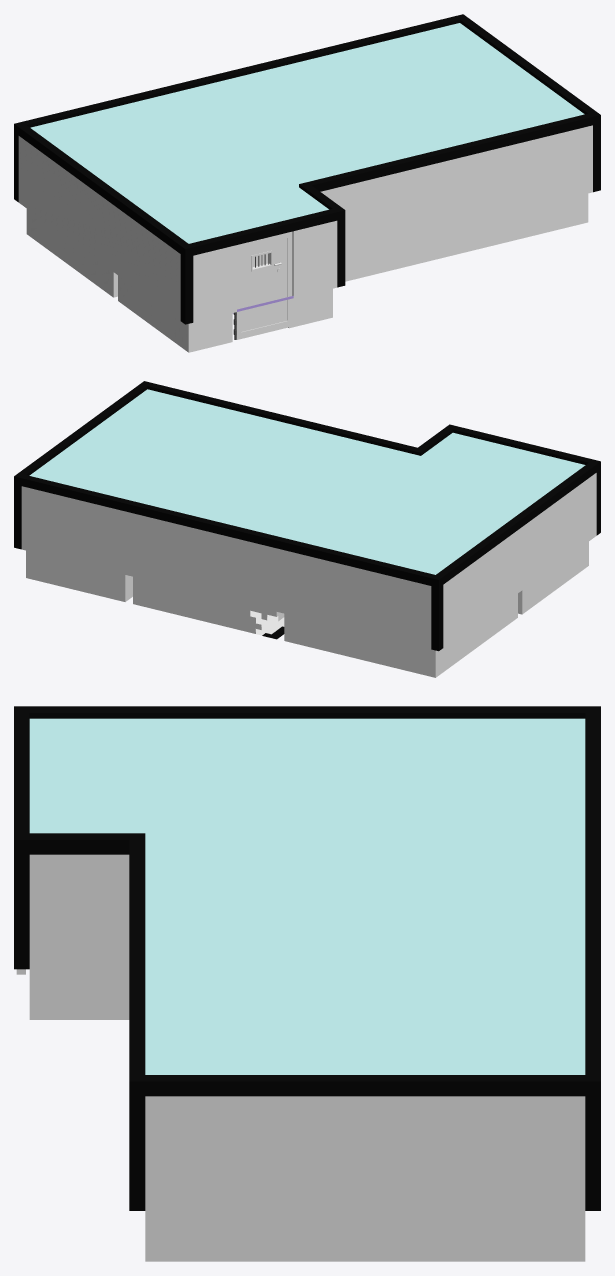
Rendered from Small_Building_1.fbx.
3 views of the same model, one above another, from view 1: azimuth 30°, elevation 25°; view 2: azimuth 150°, elevation 25°; view 3: azimuth 270°, elevation 25° (orthographic). The views are drawn at different scales.
Visible parts, largest first — view 1: Cube, Plane.303; view 2: Cube; view 3: Cube.
Boxes of the visible parts, bbox=[...] form: Cube: bbox=[14, 14, 600, 352]; Plane.303: bbox=[233, 231, 292, 339]; Cube: bbox=[14, 381, 600, 677]; Cube: bbox=[14, 706, 600, 1261].
Size of the model in its own units: 1403 by 333 by 927.
